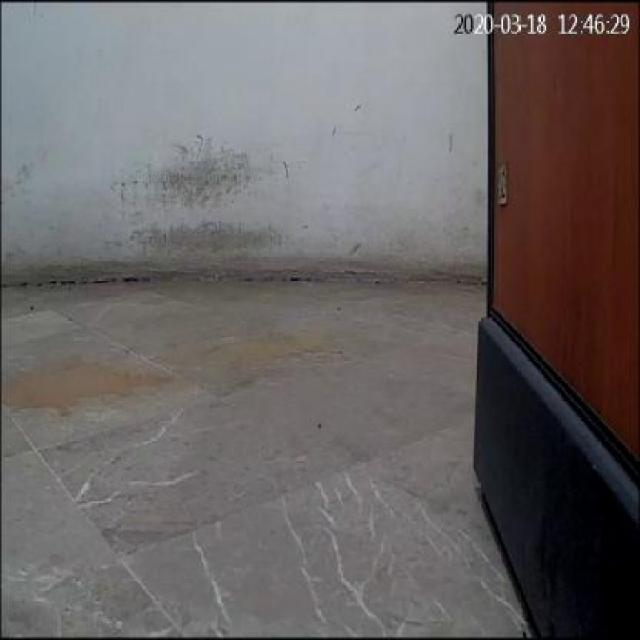spill: (3, 358, 163, 410)
